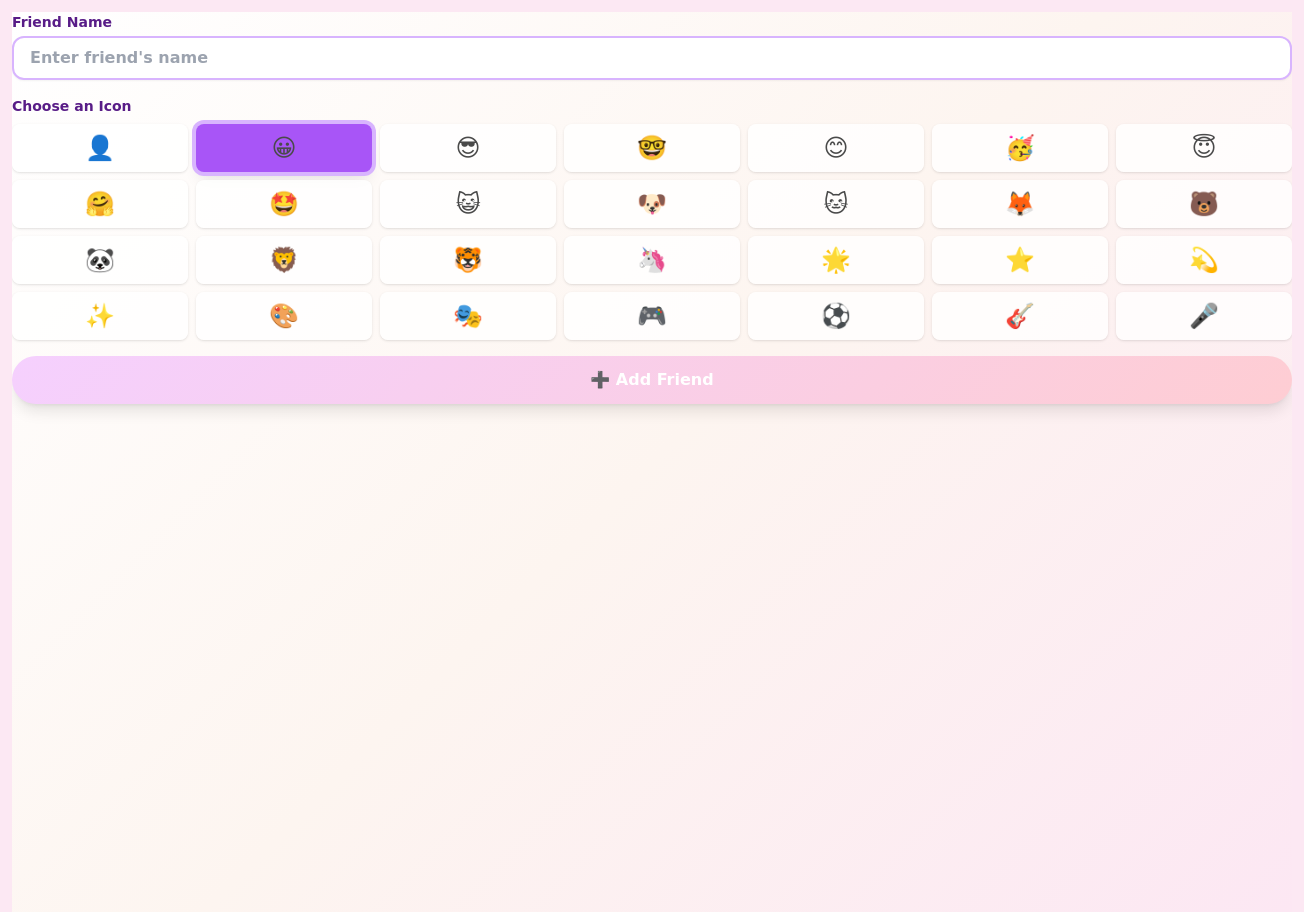
Test case: AddFriendForm › should show error message on failed submission
Type "Alice" into the field labelled "Friend Name" at (652, 58), box [12,36,1292,80]
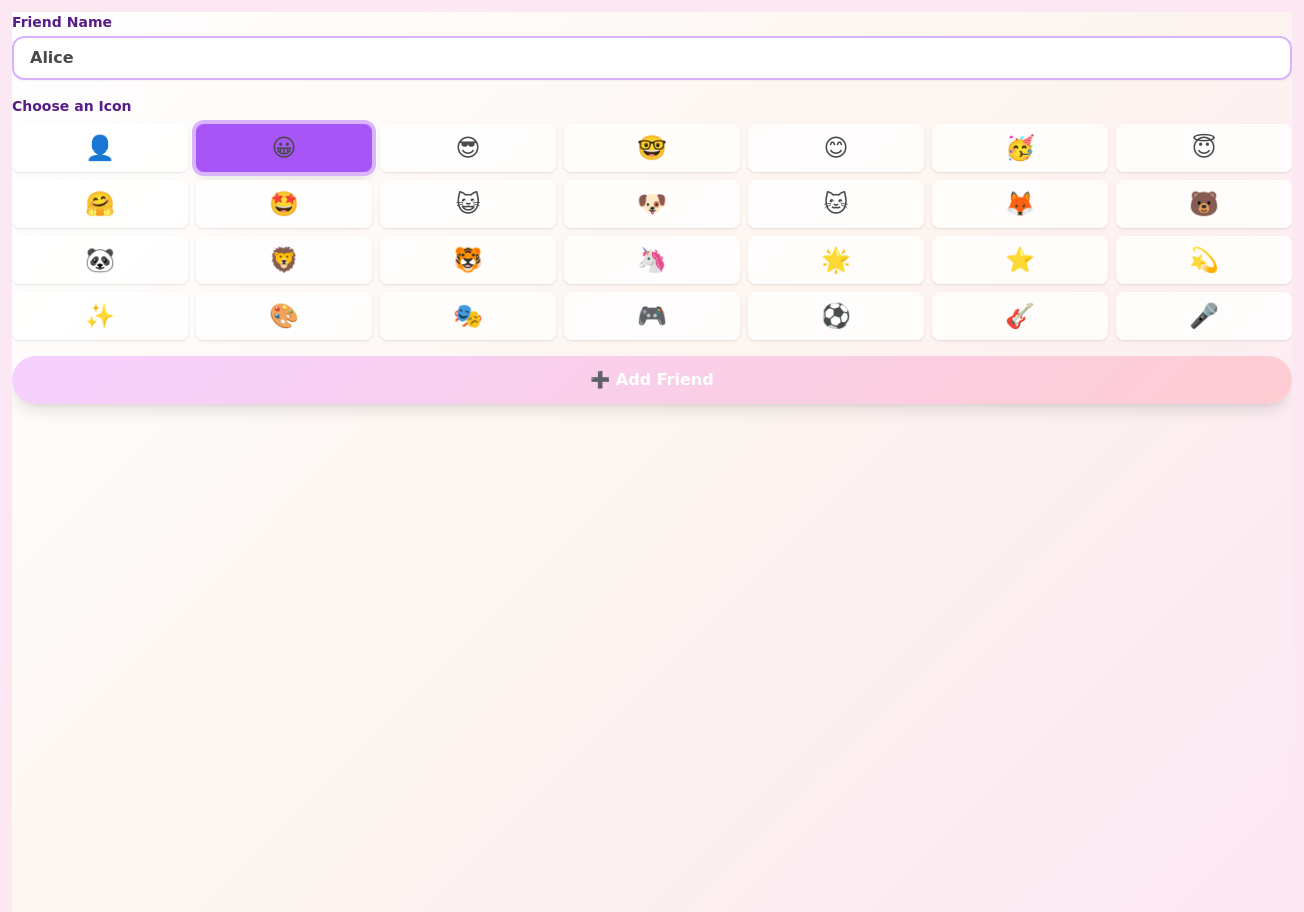
Click the button "➕ Add Friend" at (652, 380), box [12,356,1292,404]
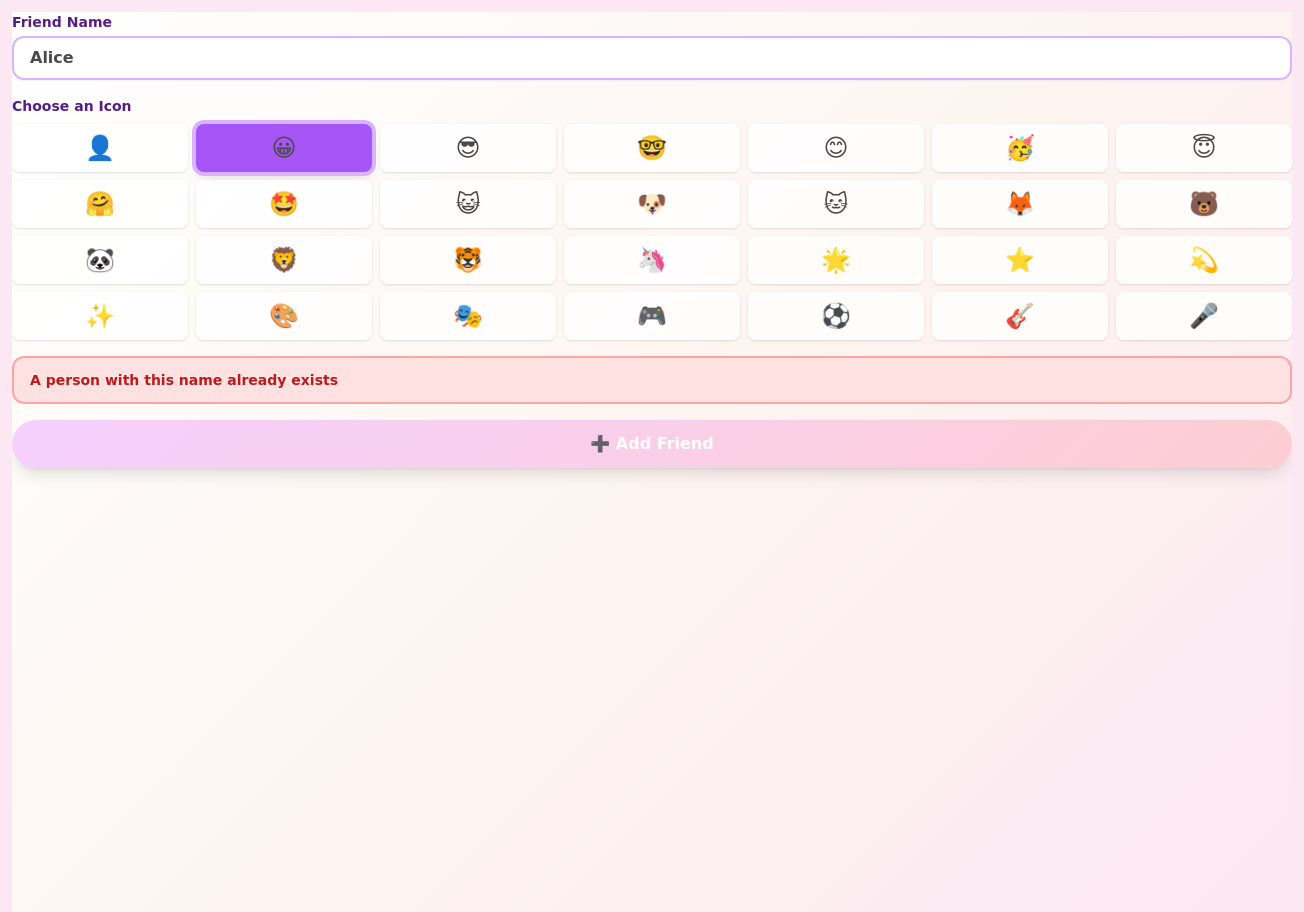
Now the text "A person with this name already exists" is shown, box [12,356,1292,404]
